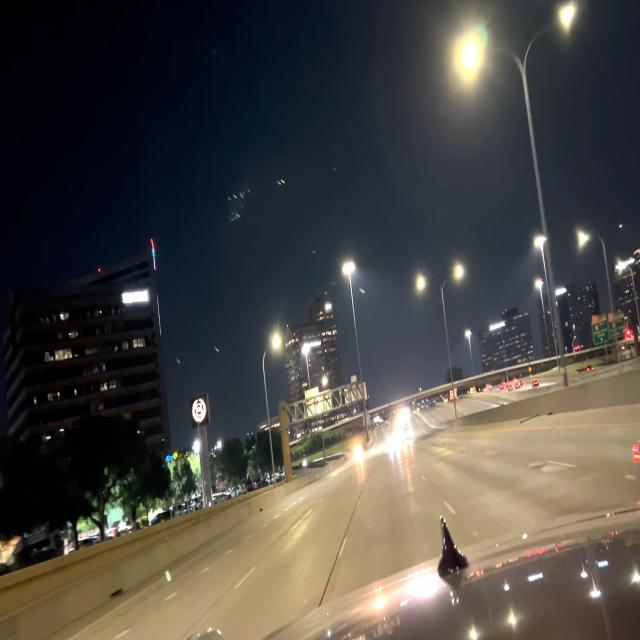back-of-sign: (305, 384, 334, 419), (343, 373, 368, 407)
